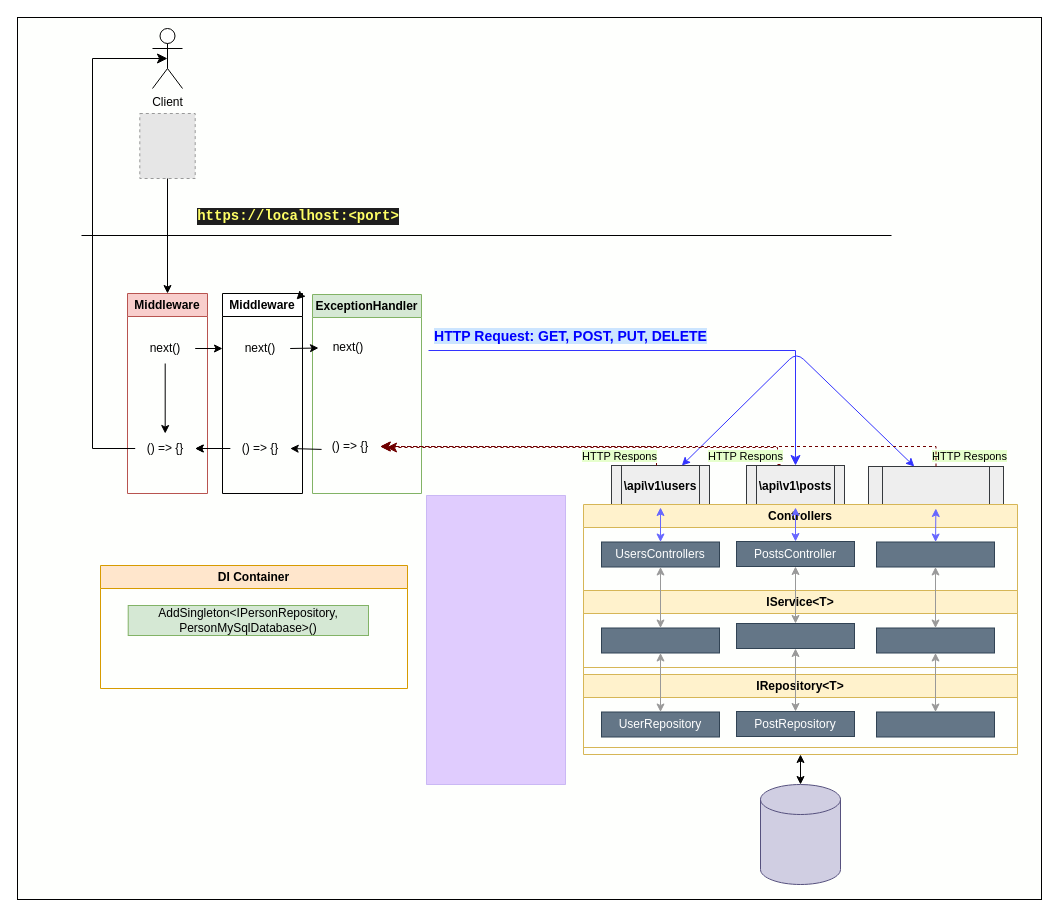
The diagram is 1059 pixels wide and 917 high, and some of its shapes have lost their labels. Grey dashed boxes stand in for pictures. The shapes that lost their labels are listed below. From the top down, each one's centre as x and y in pixels, then its label:
At point (936, 487): "\api\v1\comments".
At point (935, 554): "CommentsController".
At point (660, 640): "UserService".
At point (795, 635): "PostService".
At point (935, 640): "CommentService".
At point (935, 724): "CommentRepository".
At point (800, 834): "Database".
